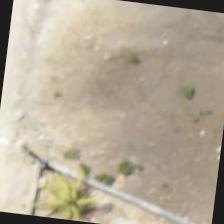Kelapa_Sawit: (25, 153, 123, 223)
